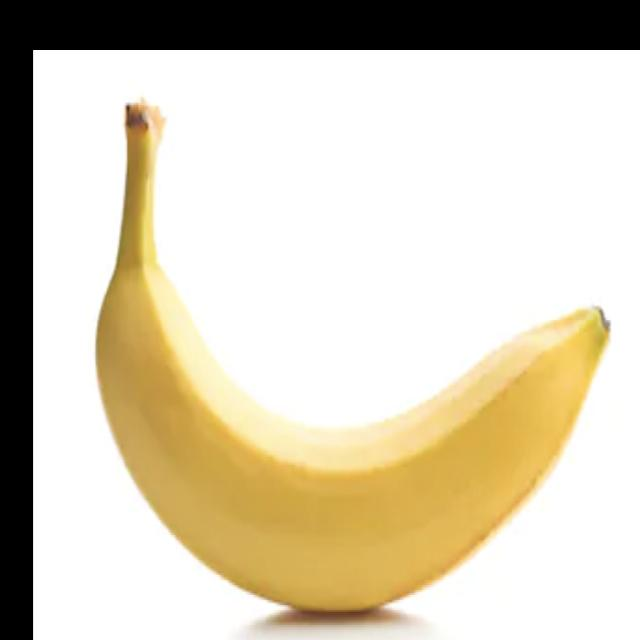Ripe: (96, 87, 615, 628)
